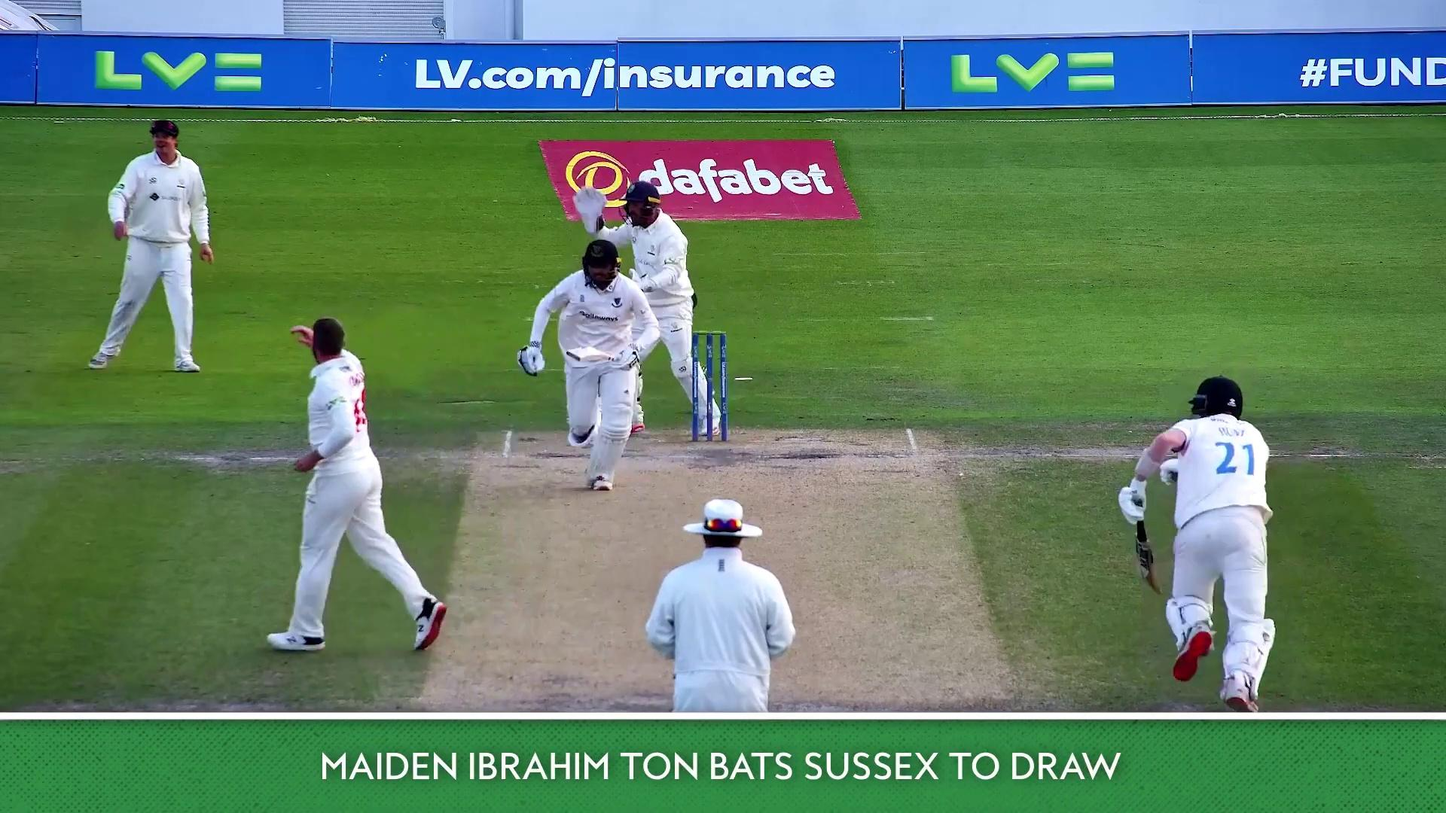batsman: (521, 242, 660, 489)
